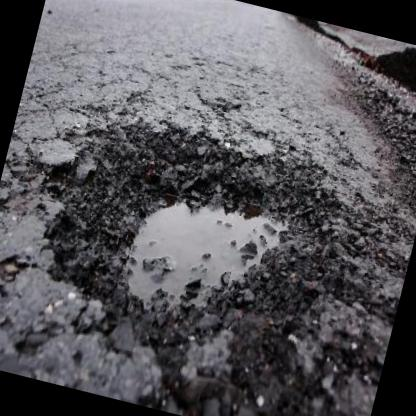pothole: (23, 95, 358, 375)
